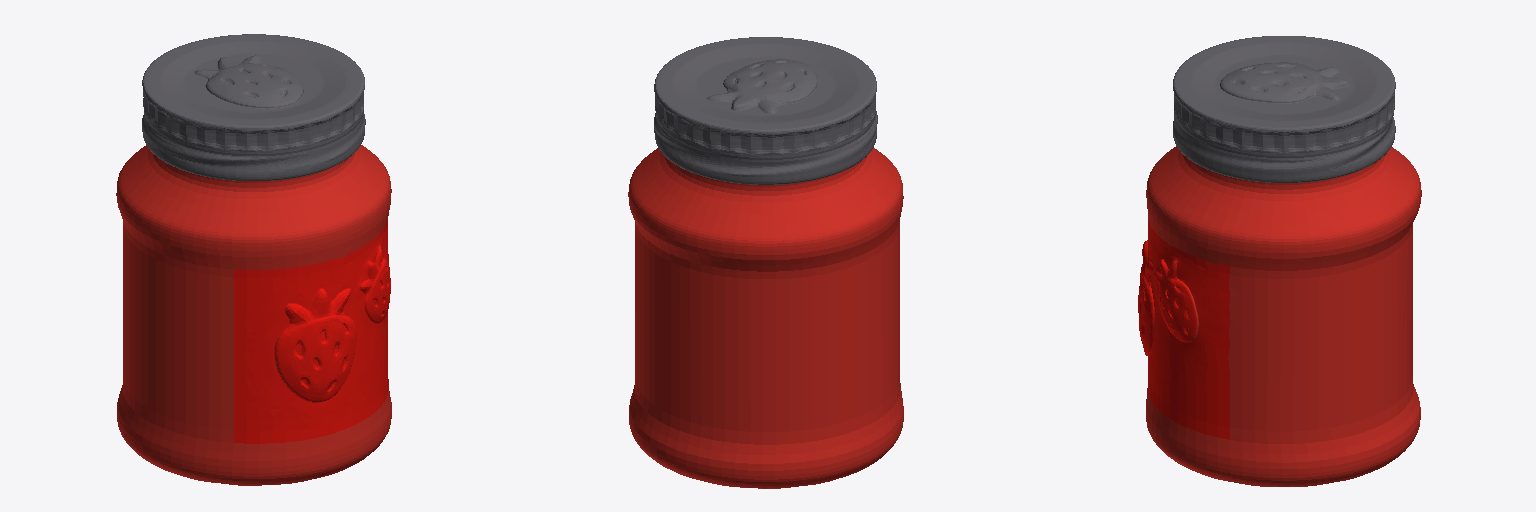
The model's file is masonJar.obj.
3 views of the same model, side by side, from view 1: azimuth 30°, elevation 25°; view 2: azimuth 150°, elevation 25°; view 3: azimuth 270°, elevation 25° (orthographic).
Parts seen in each view (by area): view 1: 15519_Mason_Jarof_Jam_v1; view 2: 15519_Mason_Jarof_Jam_v1; view 3: 15519_Mason_Jarof_Jam_v1.
Part boxes in pixels (x1,y1,x2,y2): 15519_Mason_Jarof_Jam_v1: (116, 34, 391, 485); 15519_Mason_Jarof_Jam_v1: (628, 37, 903, 488); 15519_Mason_Jarof_Jam_v1: (1138, 36, 1421, 486).
Size of the model in its own units: 3.48 by 5.02 by 3.58.